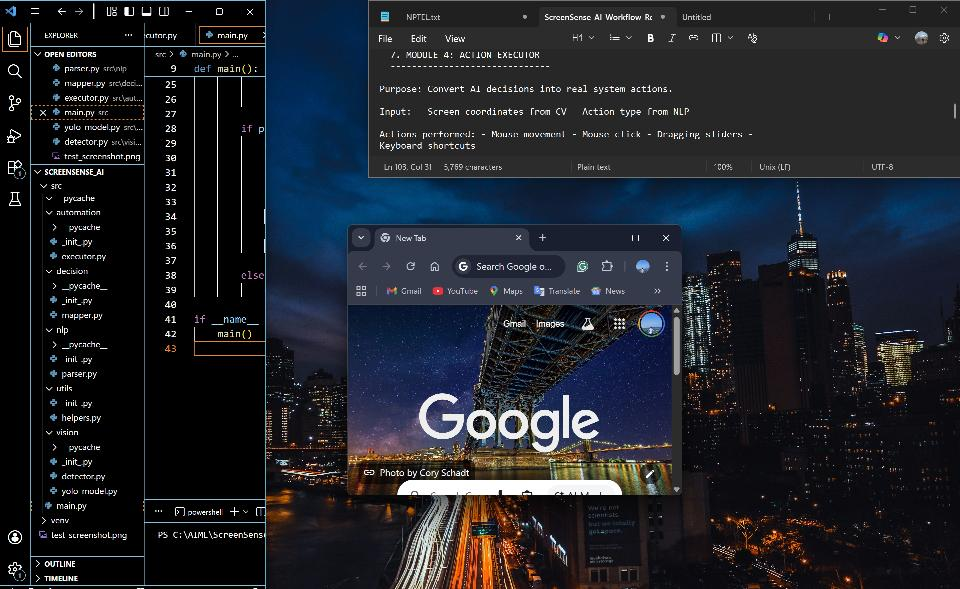close_button: (932, 2, 957, 23), (658, 229, 678, 250), (238, 1, 260, 20)
maximize_button: (624, 230, 648, 251), (903, 1, 927, 22), (208, 1, 229, 21)
minimize_button: (871, 1, 895, 22), (595, 231, 617, 249), (182, 2, 200, 21)
